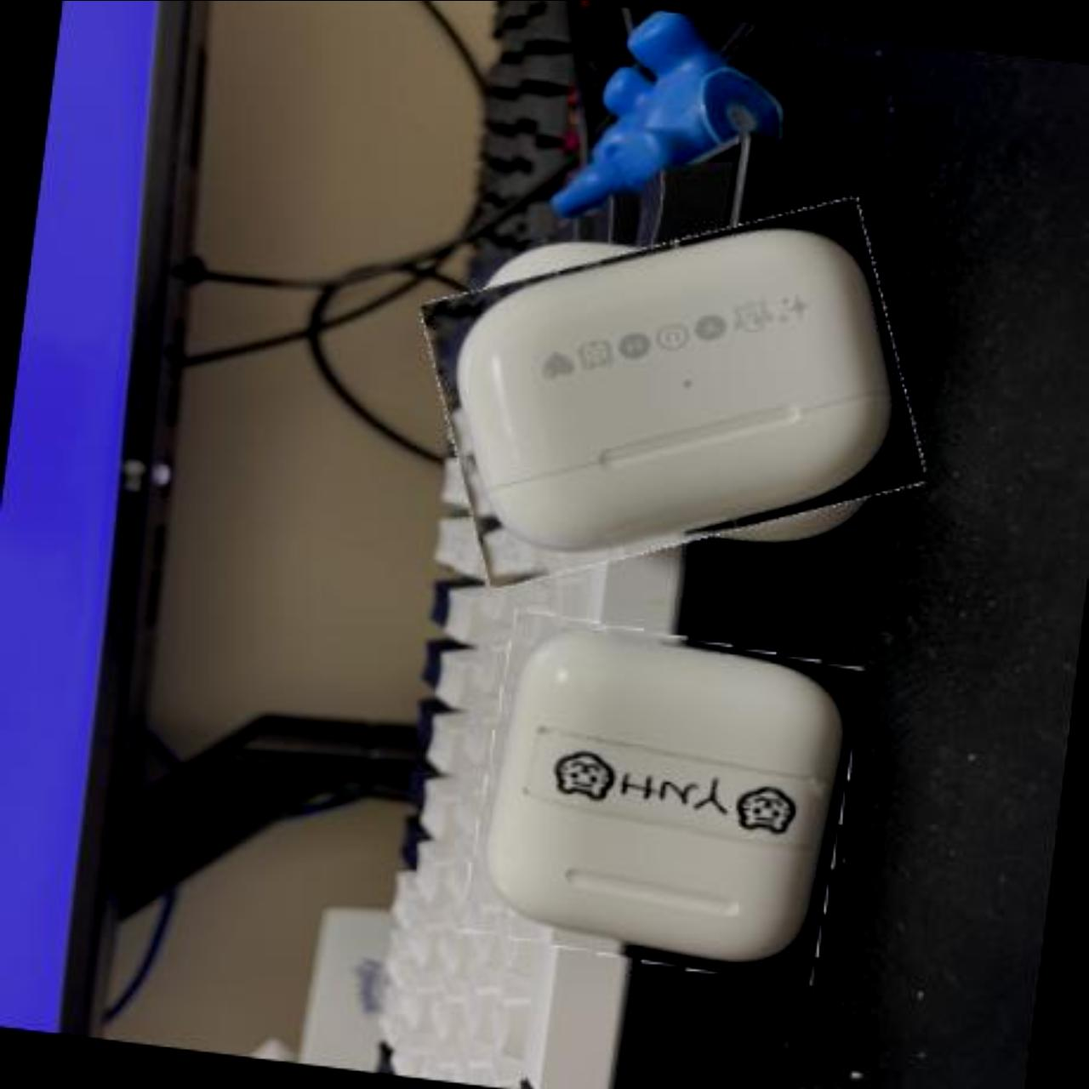AirPods: (411, 184, 938, 602), (465, 612, 864, 986)
